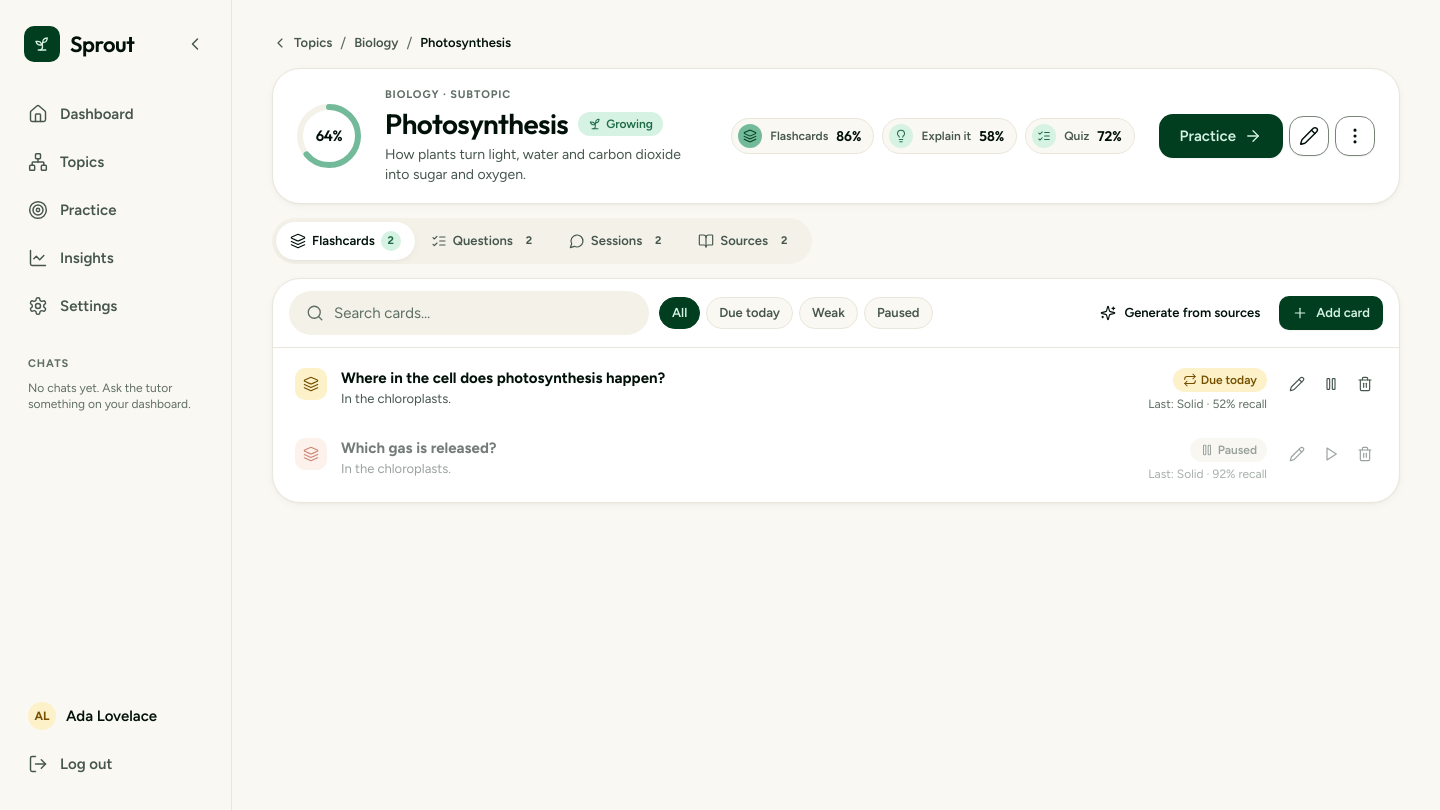
Test: SubtopicView › Sources tab › offers to add your notes when you have none, in the form
The width and height of the screenshot is (1440, 810).
Click the tab with test id "tab-sources": (746, 241) [684,222,808,260]
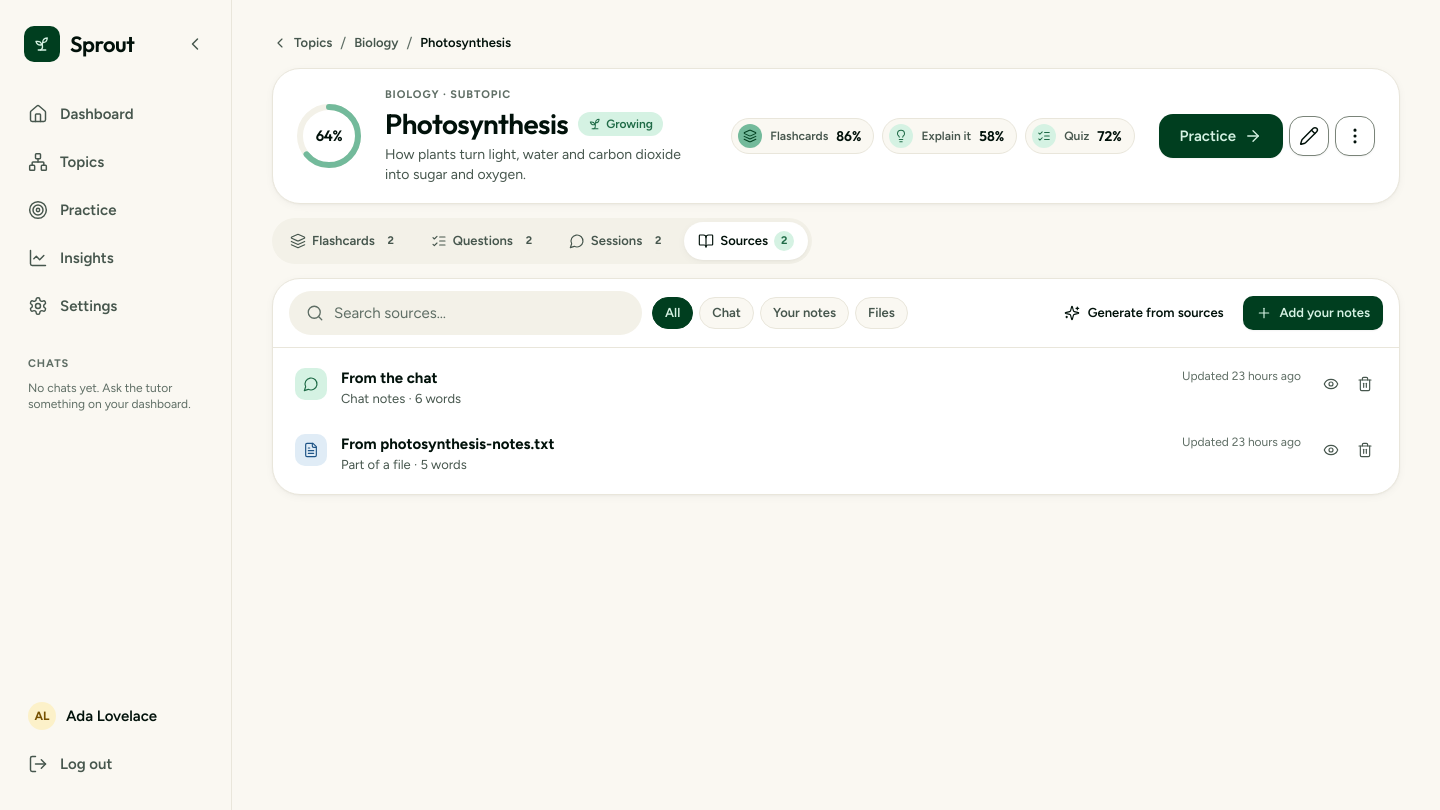
Click the button with test id "add-notes": (1313, 313) [1243,296,1383,330]
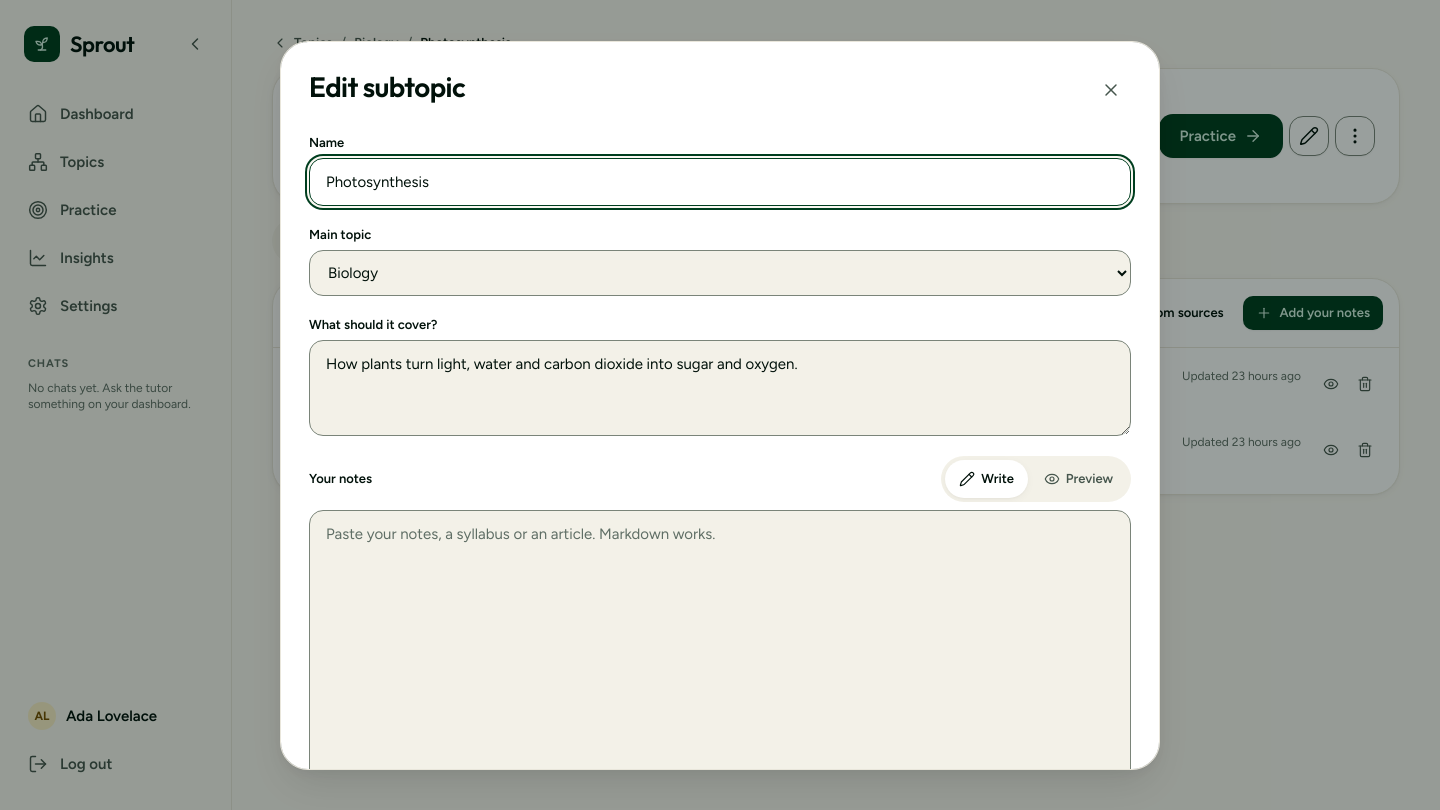
Now the dialog is shown, box [280,40,1160,770]
Now the text box with test id "notes" is empty, box [309,510,1131,770]
